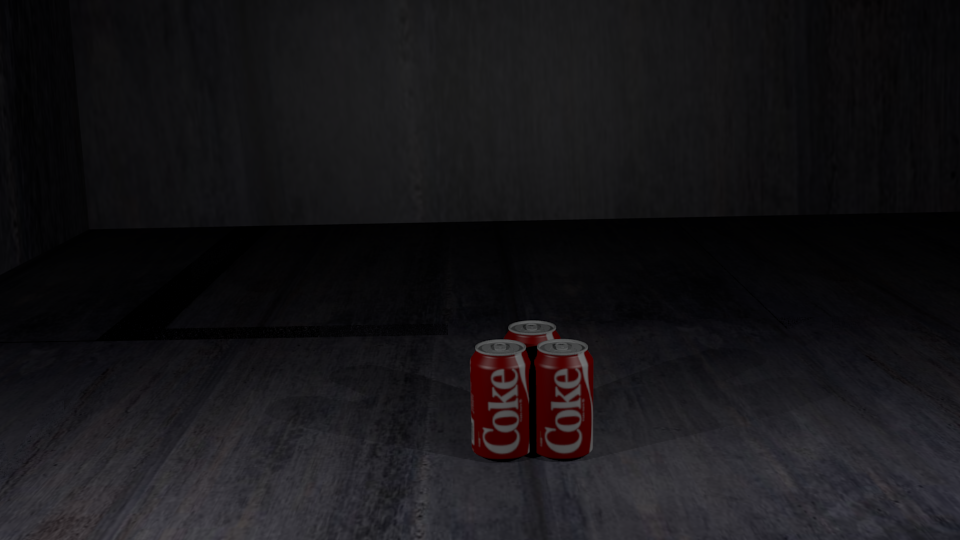cola_can: (470, 340, 531, 456), (532, 339, 592, 454), (504, 321, 560, 430)
